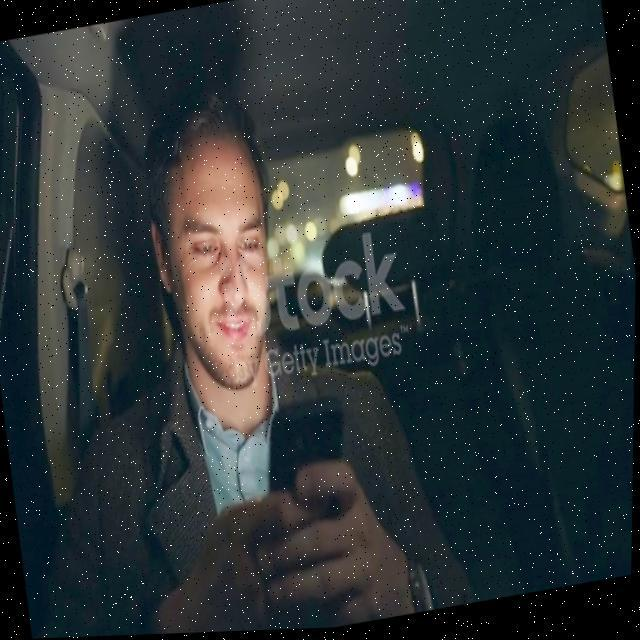PhoneCall: (255, 392, 368, 598)
